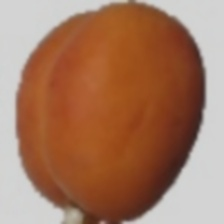apricot: (12, 10, 172, 203)
